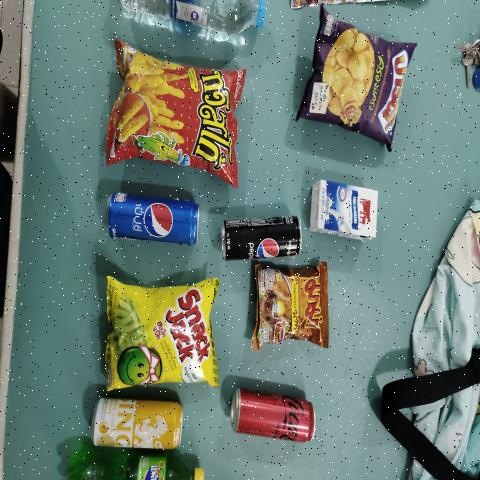coke_red: (227, 380, 315, 446)
mama: (258, 271, 324, 348)
party_purple: (300, 15, 416, 150)
pepsi_black: (217, 221, 297, 262)
pepsi_blue: (101, 188, 199, 244)
singha_soda: (97, 397, 181, 452)
snack_jack: (114, 287, 206, 381)
thai_denmark: (306, 180, 384, 243)
twisco: (115, 60, 230, 174)
